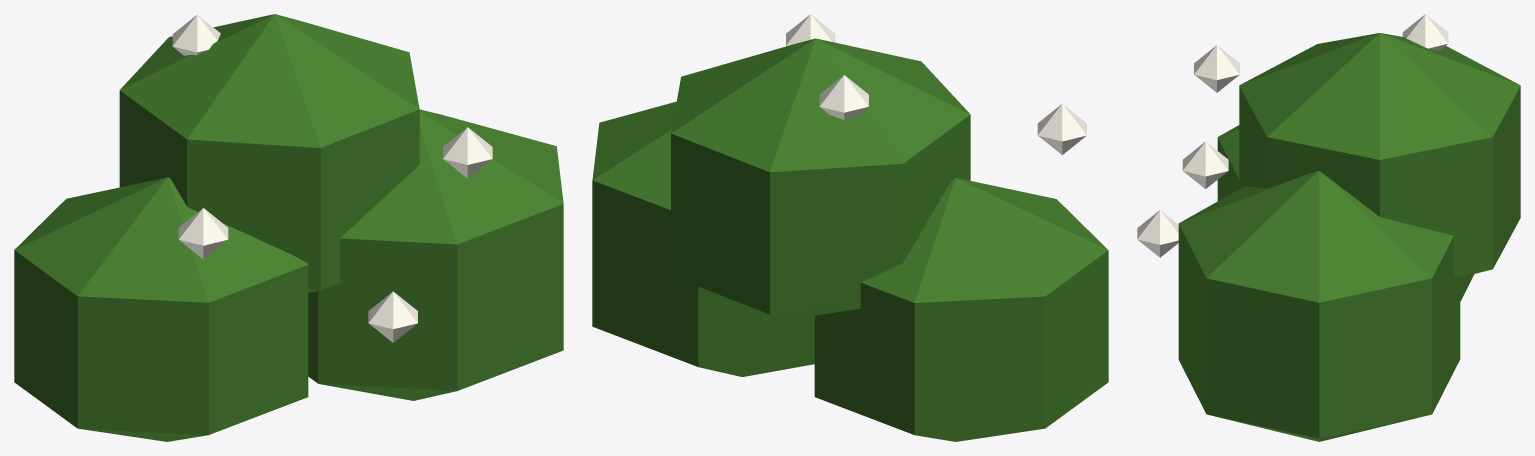
The model's file is bush_white_flowers.obj.
3 views of the same model, side by side, from view 1: azimuth 30°, elevation 25°; view 2: azimuth 150°, elevation 25°; view 3: azimuth 270°, elevation 25° (orthographic). The views are drawn at different scales.
Size of the model in its own units: 1.4 by 1.05 by 1.01.
Materials: 2 (2 with a texture image).
